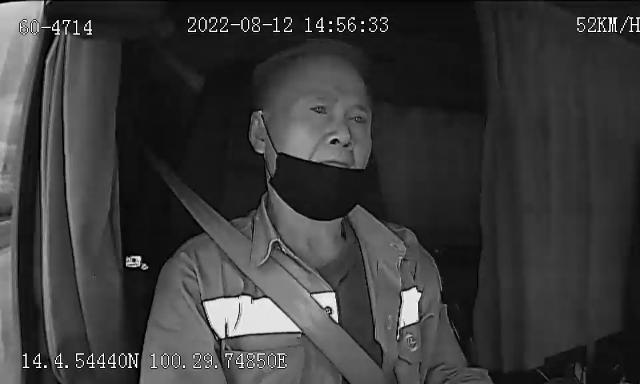SafeDriving: (342, 104, 373, 130), (303, 98, 335, 122)
Seatbelt: (174, 186, 380, 384)
